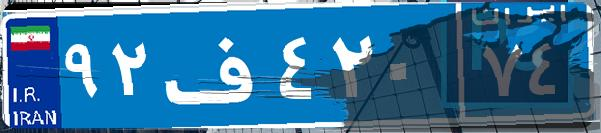0: (385, 28, 445, 110)
2: (330, 28, 385, 110), (110, 28, 158, 105)
4: (273, 28, 330, 110), (525, 38, 570, 115)
7: (475, 38, 525, 113)
9: (57, 26, 110, 107)
ف: (158, 15, 273, 115)
